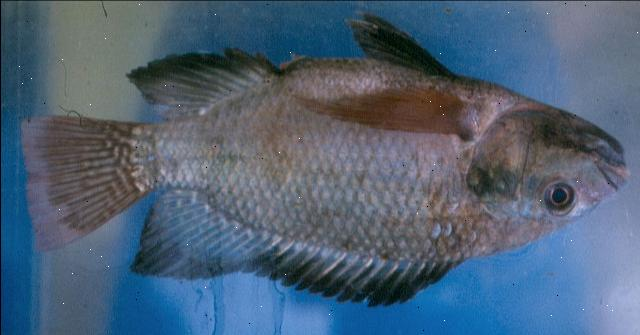Mulut: (584, 134, 638, 212)
Sirip Anal: (118, 44, 266, 124)
Sirip Dada: (300, 66, 482, 158)
Sirip Ekor: (12, 103, 142, 263)
Sirip Perut: (346, 8, 456, 86)
Sirip Punggung: (132, 197, 438, 307)
